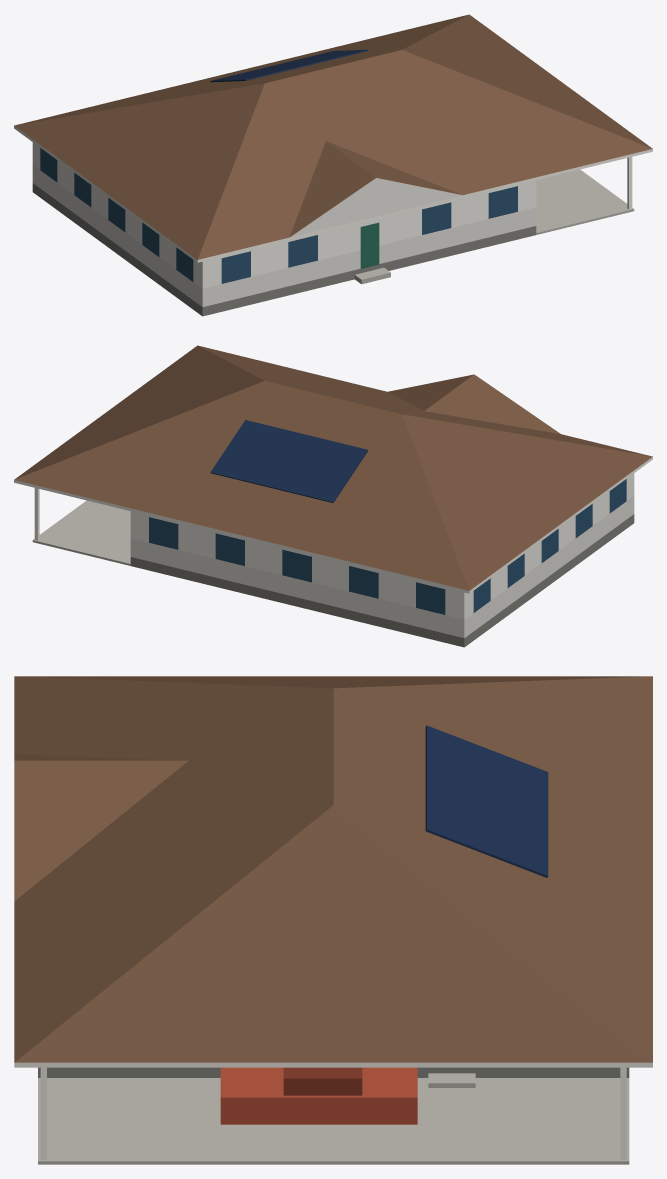
File: house_22x15_lod1.glb
3 views of the same model, one above another, from view 1: azimuth 30°, elevation 25°; view 2: azimuth 150°, elevation 25°; view 3: azimuth 270°, elevation 25° (orthographic). The views are drawn at different scales.
Parts seen in each view (by area): view 1: house; view 2: house; view 3: house.
Boxes of the visible parts, bbox=[...] form: house: bbox=[14, 14, 652, 316]; house: bbox=[14, 345, 652, 647]; house: bbox=[14, 676, 652, 1164].
Bounding box in the file's own units: 23.2 × 6.57 × 16.21.
